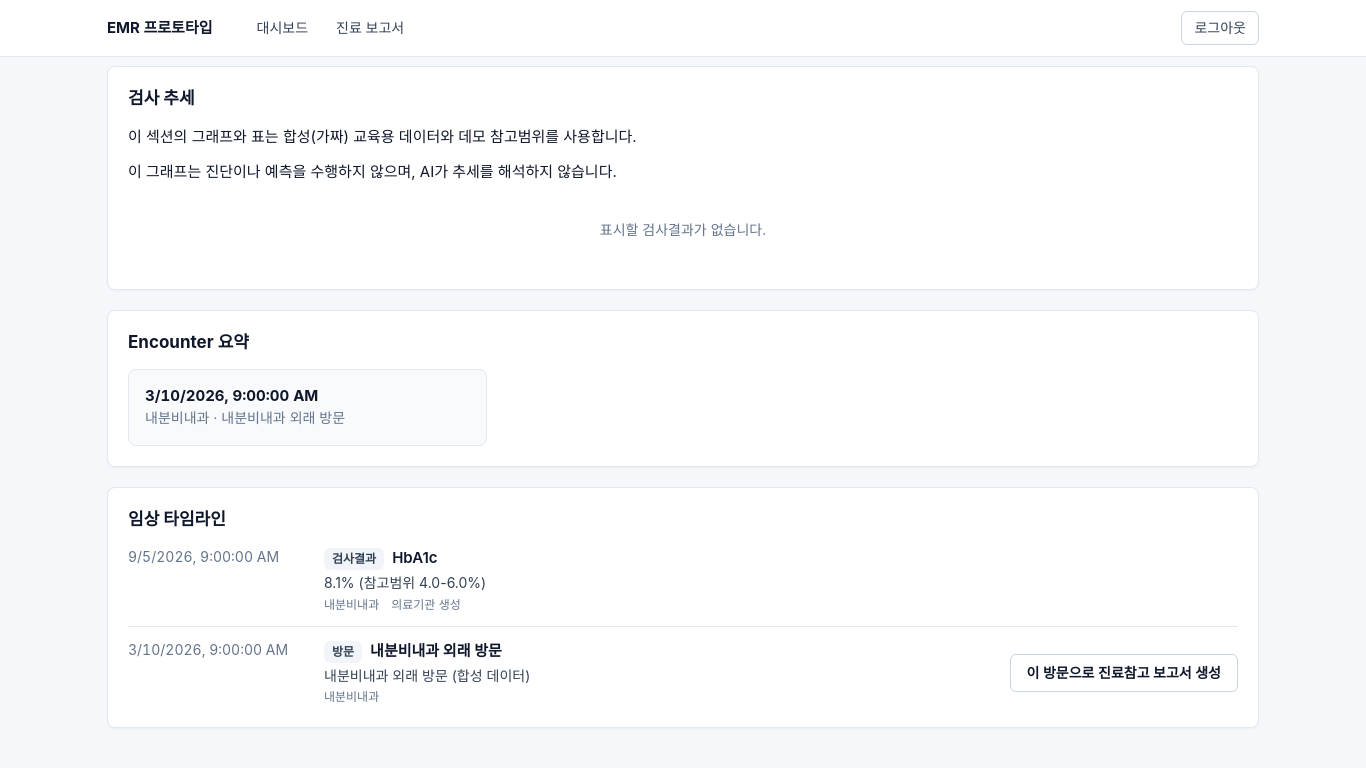
Test: PatientTimelinePage › disables the button while the request is in flight and ignores extra clicks
Later steps or results of the test are not shown.
(page scrolled)
Click the button "이 방문으로 진료참고 보고서 생성": (1124, 673) left=1010, top=654, right=1238, bottom=692
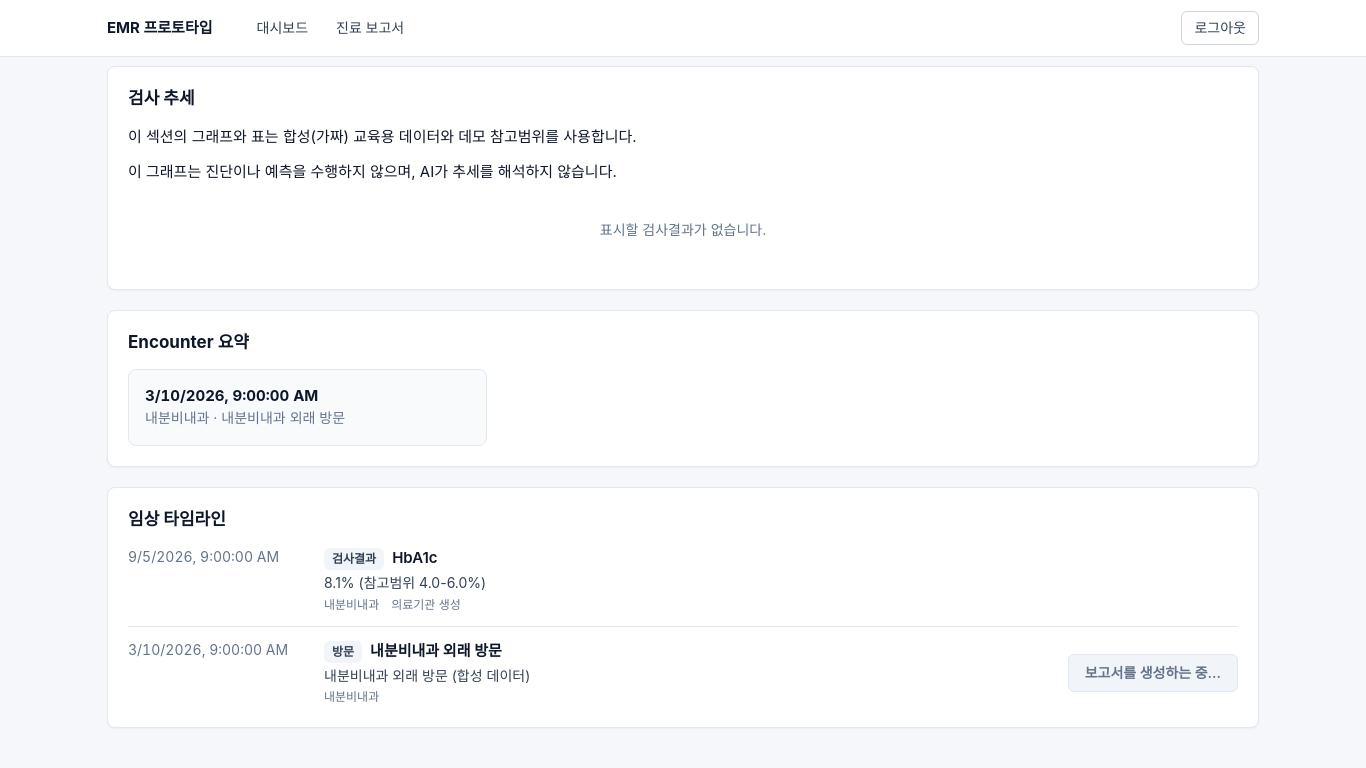
Check: the button "보고서를 생성하는 중..." is disabled, box left=1068, top=654, right=1238, bottom=692
